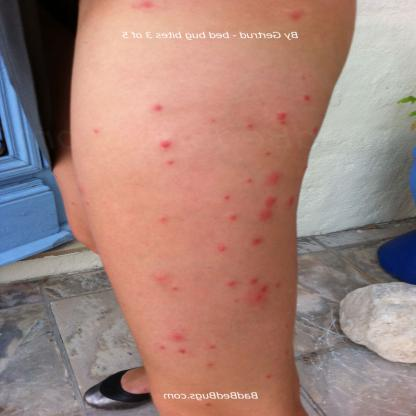Bed Bug: (221, 274, 287, 309), (155, 327, 191, 359), (154, 269, 182, 295), (257, 196, 280, 224), (202, 340, 220, 374), (127, 0, 163, 14), (245, 233, 268, 249), (284, 7, 310, 21), (275, 108, 293, 128), (262, 170, 284, 186), (274, 346, 294, 360), (287, 193, 299, 213), (220, 210, 240, 222), (150, 100, 167, 114), (239, 121, 259, 132), (156, 137, 174, 149), (276, 321, 294, 333), (69, 199, 98, 206), (197, 400, 221, 408), (298, 92, 316, 102), (218, 190, 236, 200), (260, 370, 278, 380), (296, 73, 312, 83), (164, 157, 180, 166), (74, 184, 88, 194), (207, 115, 218, 126), (88, 126, 104, 133), (311, 123, 321, 134), (242, 176, 256, 183), (157, 214, 171, 221), (217, 244, 229, 252), (264, 149, 272, 157)
